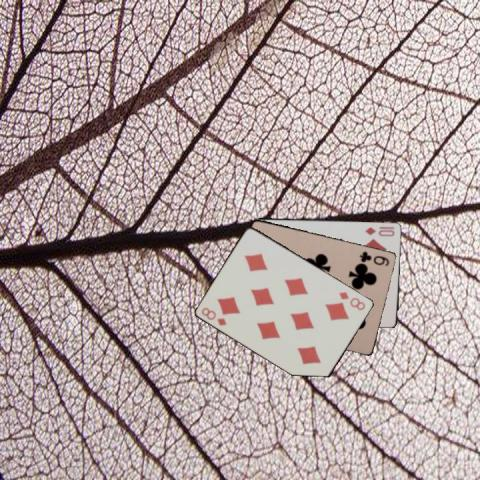10d: (363, 224, 396, 237)
6c: (356, 248, 390, 267)
8d: (336, 289, 366, 312), (198, 304, 228, 327)
